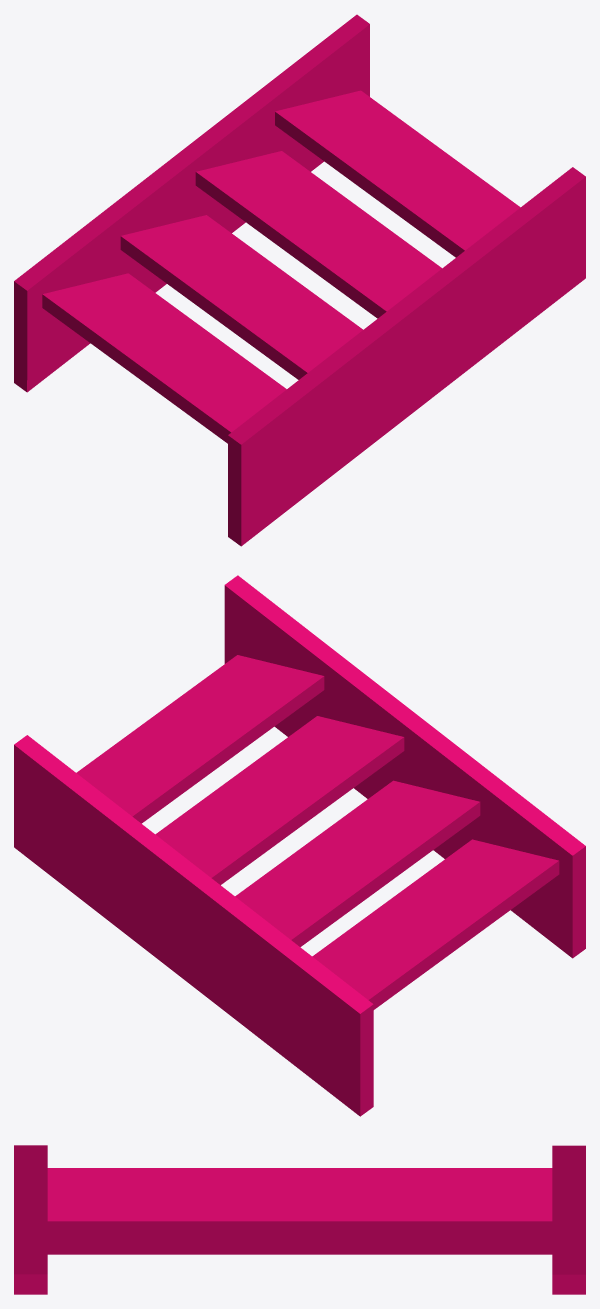
File: Bastion_Stair_03_Lod0.fbx
The picture shows the model from 3 angles, top to bottom: view 1: azimuth 30°, elevation 25°; view 2: azimuth 150°, elevation 25°; view 3: azimuth 270°, elevation 25°; orthographic projection. The views are drawn at different scales.
Parts seen in each view (by area): view 1: Bastion_Stair_03_Lod0; view 2: Bastion_Stair_03_Lod0; view 3: Bastion_Stair_03_Lod0.
Boxes of the visible parts, x1=… form: Bastion_Stair_03_Lod0: x1=14, y1=14, x2=585, y2=546; Bastion_Stair_03_Lod0: x1=14, y1=575, x2=585, y2=1116; Bastion_Stair_03_Lod0: x1=14, y1=1145, x2=585, y2=1294.
Size of the model in its own units: 143 by 113 by 161.
